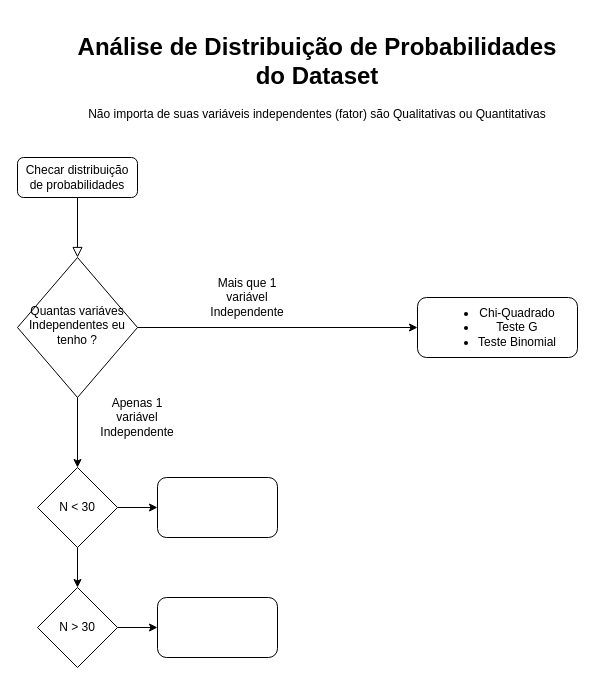
The diagram is 595 pixels wide and 685 high, and some of its shapes have lost their labels. The shapes that lost their labels are listed below. From the top down, each one's box as (x1, y1, x2, y2) in pixels, then its label:
(156, 476, 278, 538): Shapiro-Wilk
(156, 596, 278, 658): Kolmogorov-Smirnov
